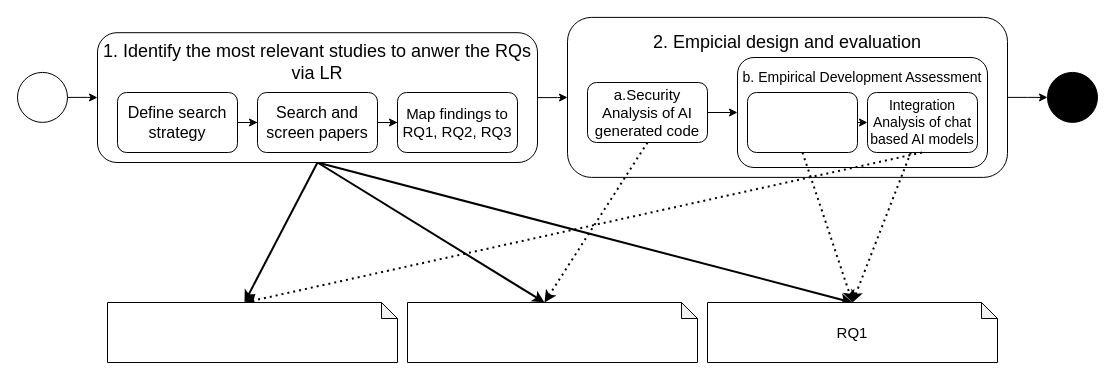
Image size: 1115x381. Some labels were removed from this diagram. The shapes that lost their labels are listed below. From the top down, each one's box as (x1, y1, x2, y2) in pixels, then its label:
(746, 92, 858, 152): Quality Analysis of an agentic tool
(106, 302, 398, 362): RQ3
(406, 302, 698, 362): RQ2
